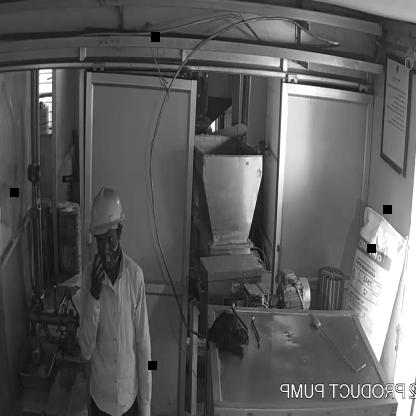helmet: (79, 177, 132, 251)
